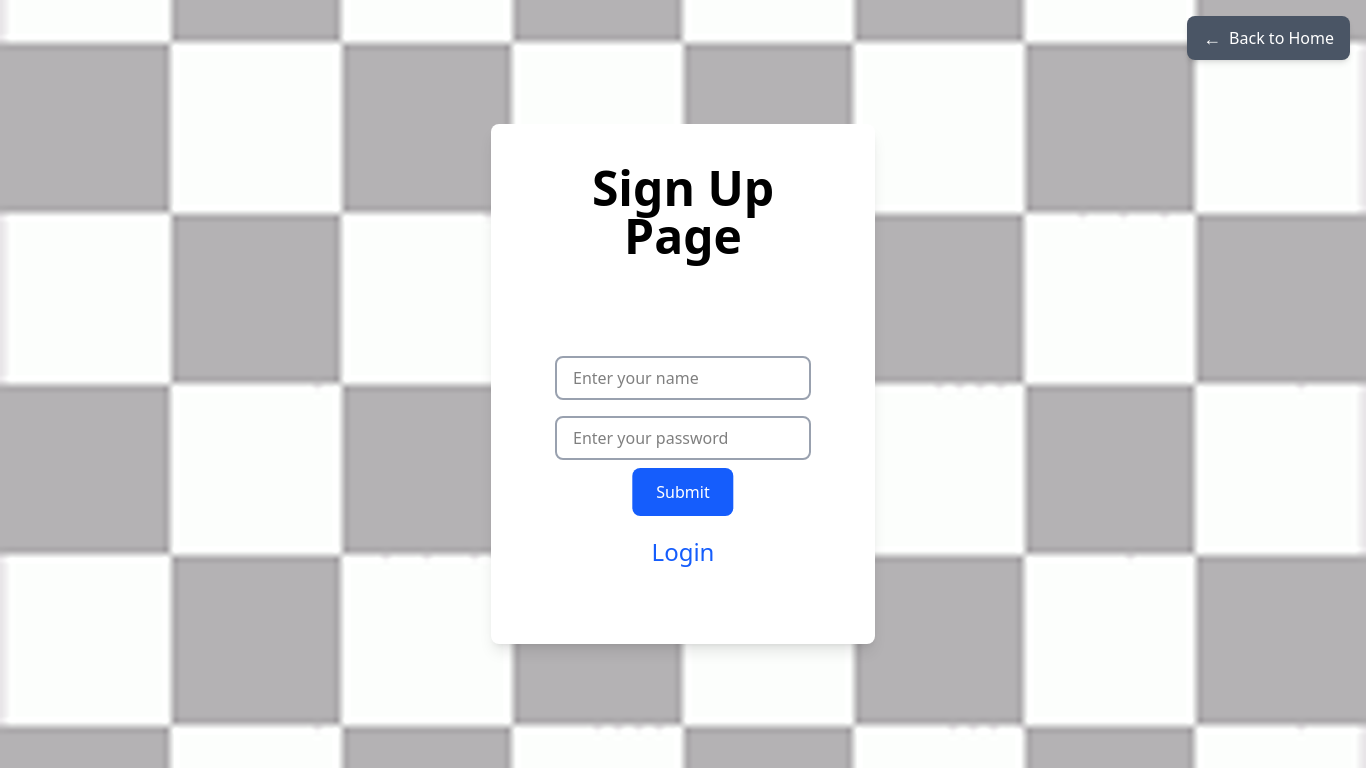
Test case: SignUp validation › shows error when password is empty
Type "newuser" into the field with placeholder "Enter your name" at coordinates (683, 378), box x1=555 y1=356 x2=811 y2=400
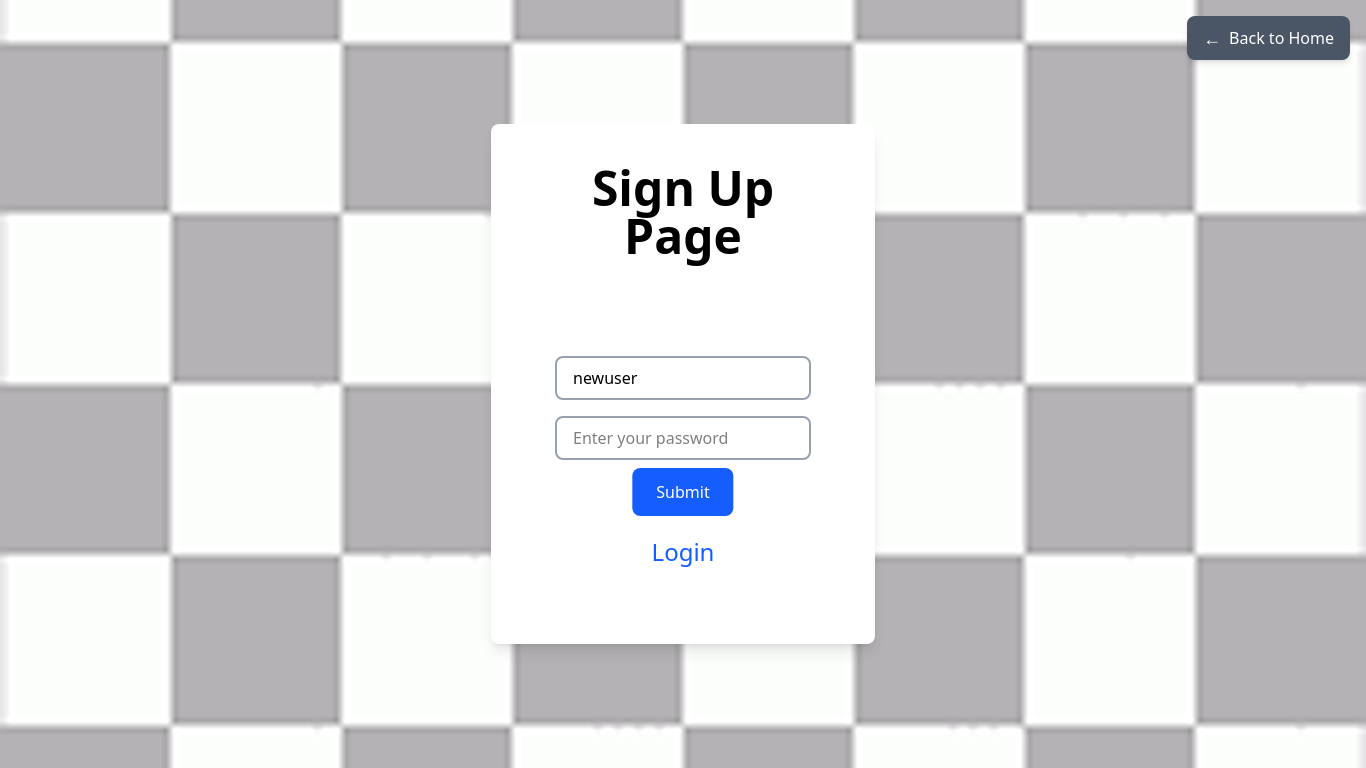
Click the button "Submit" at coordinates (683, 492), box x1=632 y1=468 x2=734 y2=516
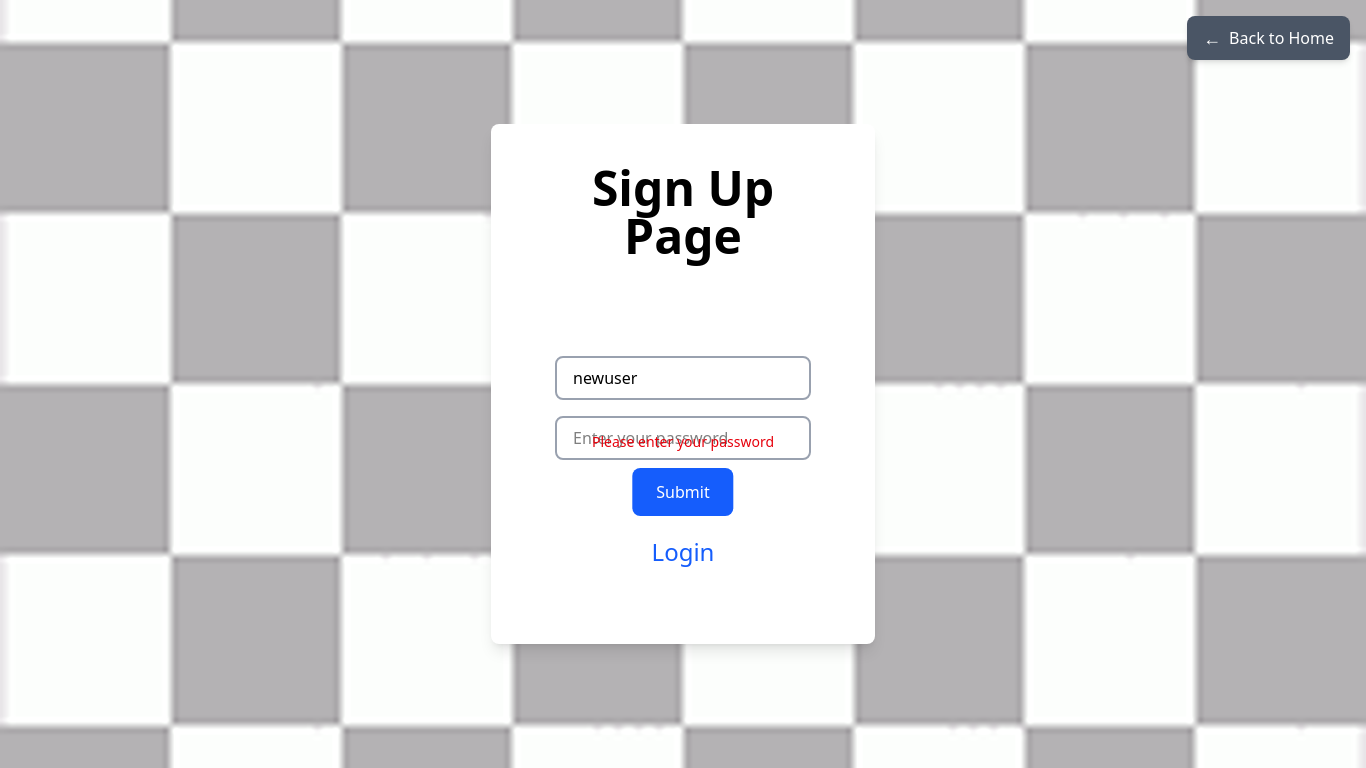
Expected: the text "Please enter your password" is shown, x1=592 y1=432 x2=774 y2=452
